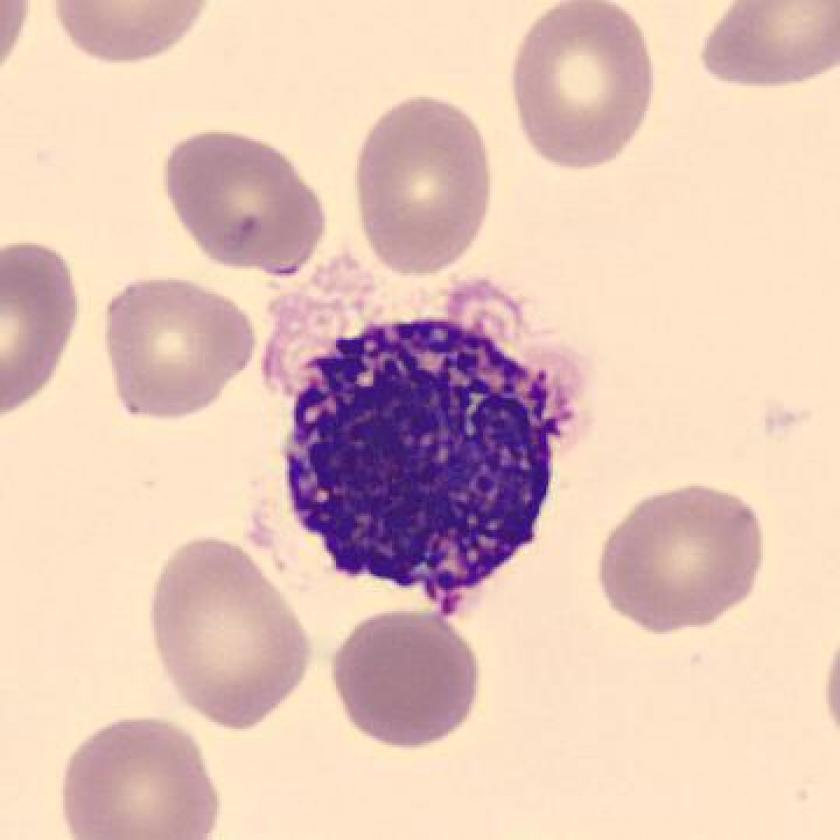basophil: (270, 297, 571, 605)
